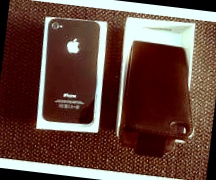iphone: (41, 24, 97, 129)
